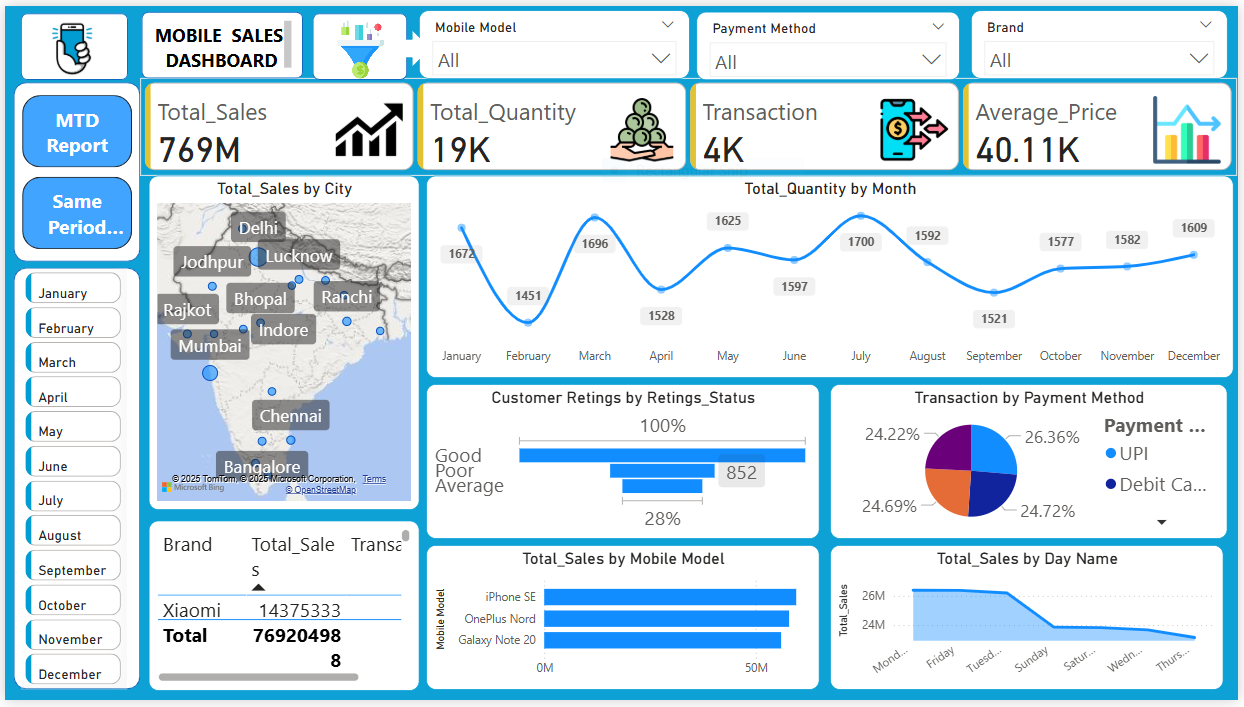

Layout of this report page (visuals, bound fields, positions):
{"tool":"powerbi","page":{"name":"Dashboard","canvas":[1280,720],"ordinal":0},"visuals":[{"type":"shape","box":[15.9,7.2,111.4,69.5],"z":0},{"type":"image","box":[23.2,4.3,91.2,79.6],"z":1000},{"type":"shape","box":[8.7,79.6,131.7,186.7],"z":2000},{"type":"shape","box":[8.7,272.1,131.7,438.5],"z":3000},{"type":"advancedSlicerVisual","fields":{"Values":["Custom_Calendar.Date.Variation.Date Hierarchy.Month"]},"box":[15.9,272.1,110,438.5],"z":4000},{"type":"cardVisual","fields":{"Data":["Mobile_Sales_Data.Total_Sales","Mobile_Sales_Data.Total_Quantity","Mobile_Sales_Data.Transaction","Mobile_Sales_Data.Average_Price"]},"box":[140.4,75.3,1138.9,101.3],"z":5000},{"type":"slicer","fields":{"Values":["Mobile_Sales_Data.Mobile Model"]},"box":[429.8,4.3,280.8,70.9],"z":6000},{"type":"slicer","fields":{"Values":["Mobile_Sales_Data.Payment Method"]},"box":[717.8,5.8,273.5,70.9],"z":7000},{"type":"slicer","fields":{"Values":["Mobile_Sales_Data.Brand"]},"box":[1002.9,4.3,266.3,70.9],"z":8000},{"type":"shape","box":[319.8,7.2,98.4,69.5],"z":9000},{"type":"image","box":[337.2,10.1,63.7,69.5],"z":10000},{"type":"shape","box":[398,26,43.4,37.6],"z":11000},{"type":"shape","box":[141.8,5.8,167.9,69.5],"z":12000},{"type":"textbox","box":[149.1,10.1,153.4,60.8],"z":13000},{"type":"map","fields":{"Category":["Mobile_Sales_Data.City"],"Size":["Mobile_Sales_Data.Total_Sales"]},"box":[149.1,176.6,280.8,347.3],"z":14000},{"type":"lineChart","fields":{"Y":["Mobile_Sales_Data.Total_Quantity"],"Category":["Custom_Calendar.Date.Variation.Date Hierarchy.Month"]},"box":[437.1,176.6,837.9,209.8],"z":15000},{"type":"funnel","title":"Customer Retings by Retings_Status","fields":{"Category":["Mobile_Sales_Data.Retings_Status"],"Y":["CountNonNull(Mobile_Sales_Data.Customer Ratings)"]},"box":[437.1,392.2,408.1,160.6],"z":16000},{"type":"pieChart","fields":{"Category":["Mobile_Sales_Data.Payment Method"],"Y":["Mobile_Sales_Data.Transaction"]},"box":[856.7,392.2,412.4,160.6],"z":17000},{"type":"barChart","fields":{"Y":["Mobile_Sales_Data.Total_Sales"],"Category":["Mobile_Sales_Data.Mobile Model"]},"box":[437.1,560.1,408.1,150.5],"z":18000},{"type":"areaChart","fields":{"Y":["Mobile_Sales_Data.Total_Sales"],"Category":["Custom_Calendar.Day Name"]},"box":[856.7,560.1,408.1,150.5],"z":19000},{"type":"tableEx","fields":{"Values":["Mobile_Sales_Data.Brand","Mobile_Sales_Data.Total_Sales","Mobile_Sales_Data.Transaction"]},"box":[149.1,534,280.8,176.6],"z":20000},{"type":"pageNavigator","box":[17.9,92.5,114.9,161.2],"z":21000}]}

Visuals, with their boxes in screenshot pixels (x1, y1, x2, y2), scaled from the page's 1280x720 canvas onto the 1244x707 screenshot:
shape: l=15, t=7, r=124, b=75
image: l=23, t=4, r=111, b=82
shape: l=8, t=78, r=136, b=261
shape: l=8, t=267, r=136, b=698
advancedSlicerVisual - Custom_Calendar.Date.Variation.Date Hierarchy.Month: l=15, t=267, r=122, b=698
cardVisual - Mobile_Sales_Data.Total_Sales x Mobile_Sales_Data.Total_Quantity: l=136, t=74, r=1243, b=173
slicer - Mobile_Sales_Data.Mobile Model: l=418, t=4, r=691, b=74
slicer - Mobile_Sales_Data.Payment Method: l=698, t=6, r=963, b=75
slicer - Mobile_Sales_Data.Brand: l=975, t=4, r=1234, b=74
shape: l=311, t=7, r=406, b=75
image: l=328, t=10, r=390, b=78
shape: l=387, t=26, r=429, b=62
shape: l=138, t=6, r=301, b=74
textbox: l=145, t=10, r=294, b=70
map - Mobile_Sales_Data.City x Mobile_Sales_Data.Total_Sales: l=145, t=173, r=418, b=514
lineChart - Mobile_Sales_Data.Total_Quantity x Custom_Calendar.Date.Variation.Date Hierarchy.Month: l=425, t=173, r=1239, b=379
"Customer Retings by Retings_Status" funnel: l=425, t=385, r=821, b=543
pieChart - Mobile_Sales_Data.Payment Method x Mobile_Sales_Data.Transaction: l=833, t=385, r=1233, b=543
barChart - Mobile_Sales_Data.Total_Sales x Mobile_Sales_Data.Mobile Model: l=425, t=550, r=821, b=698
areaChart - Mobile_Sales_Data.Total_Sales x Custom_Calendar.Day Name: l=833, t=550, r=1229, b=698
tableEx - Mobile_Sales_Data.Brand x Mobile_Sales_Data.Total_Sales: l=145, t=524, r=418, b=698
pageNavigator: l=17, t=91, r=129, b=249
